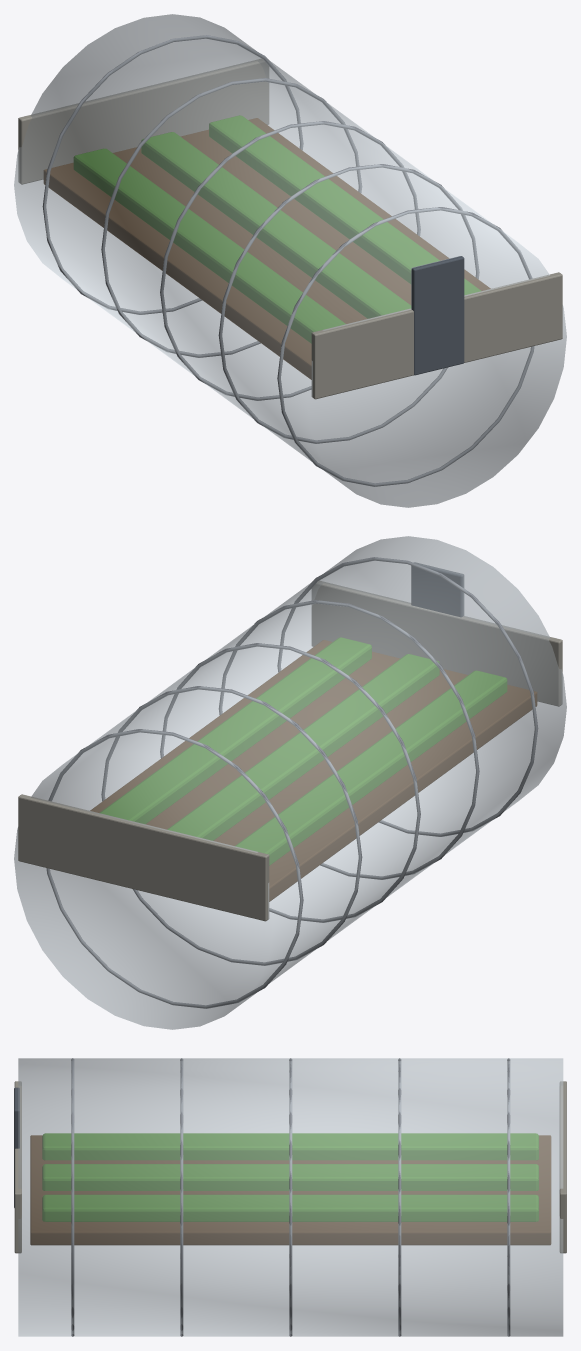
The model's file is greenhouse.glb.
3 renders of one model, top to bottom at view 1: azimuth 30°, elevation 25°; view 2: azimuth 150°, elevation 25°; view 3: azimuth 270°, elevation 25°, orthographic. The views are drawn at different scales.
Visible parts, largest first — view 1: Cylinder, Cube.003, Cube, Cube.001, Cube.005, Cube.004, Cube.006, Cube.002, Torus, Torus.001, Torus.003, Torus.004 (+1 smaller); view 2: Cylinder, Cube.003, Cube.001, Cube, Cube.005, Cube.006, Cube.004, Torus.004, Torus.003, Torus.001, Torus, Torus.002 (+1 smaller); view 3: Cylinder, Cube.003, Cube.006, Cube.004, Cube.005, Cube.001, Torus, Torus.001, Torus.002, Torus.003, Torus.004, Cube (+1 smaller).
Boxes of the visible parts, bbox=[...] form: Cylinder: bbox=[14, 14, 566, 507]; Cube.003: bbox=[43, 118, 490, 379]; Cube: bbox=[311, 272, 562, 399]; Cube.001: bbox=[18, 59, 269, 184]; Cube.005: bbox=[141, 132, 411, 318]; Cube.004: bbox=[73, 148, 345, 343]; Cube.006: bbox=[209, 115, 480, 294]; Cube.002: bbox=[411, 256, 464, 375]; Torus: bbox=[277, 207, 534, 486]; Torus.001: bbox=[218, 164, 479, 443]; Torus.003: bbox=[101, 78, 362, 357]; Torus.004: bbox=[42, 35, 303, 314]; Cylinder: bbox=[14, 536, 566, 1029]; Cube.003: bbox=[90, 640, 537, 901]; Cube.001: bbox=[18, 794, 269, 921]; Cube: bbox=[311, 581, 562, 706]; Cube.005: bbox=[167, 654, 439, 840]; Cube.006: bbox=[100, 637, 371, 823]; Cube.004: bbox=[235, 670, 507, 865]; Torus.004: bbox=[46, 729, 303, 1008]; Torus.003: bbox=[101, 686, 362, 965]; Torus.001: bbox=[218, 600, 479, 879]; Torus: bbox=[277, 557, 538, 836]; Torus.002: bbox=[160, 643, 420, 922]; Cylinder: bbox=[18, 1058, 563, 1336]; Cube.003: bbox=[30, 1135, 551, 1245]; Cube.006: bbox=[42, 1194, 538, 1221]; Cube.004: bbox=[42, 1133, 538, 1160]; Cube.005: bbox=[42, 1164, 538, 1190]; Cube.001: bbox=[559, 1081, 566, 1253]; Torus: bbox=[71, 1058, 74, 1336]; Torus.001: bbox=[180, 1058, 183, 1336]; Torus.002: bbox=[289, 1058, 292, 1336]; Torus.003: bbox=[398, 1058, 401, 1336]; Torus.004: bbox=[507, 1058, 510, 1336]; Cube: bbox=[14, 1081, 21, 1253].
Bounding box in the file's own units: 4.62 × 4.62 × 9.13.
